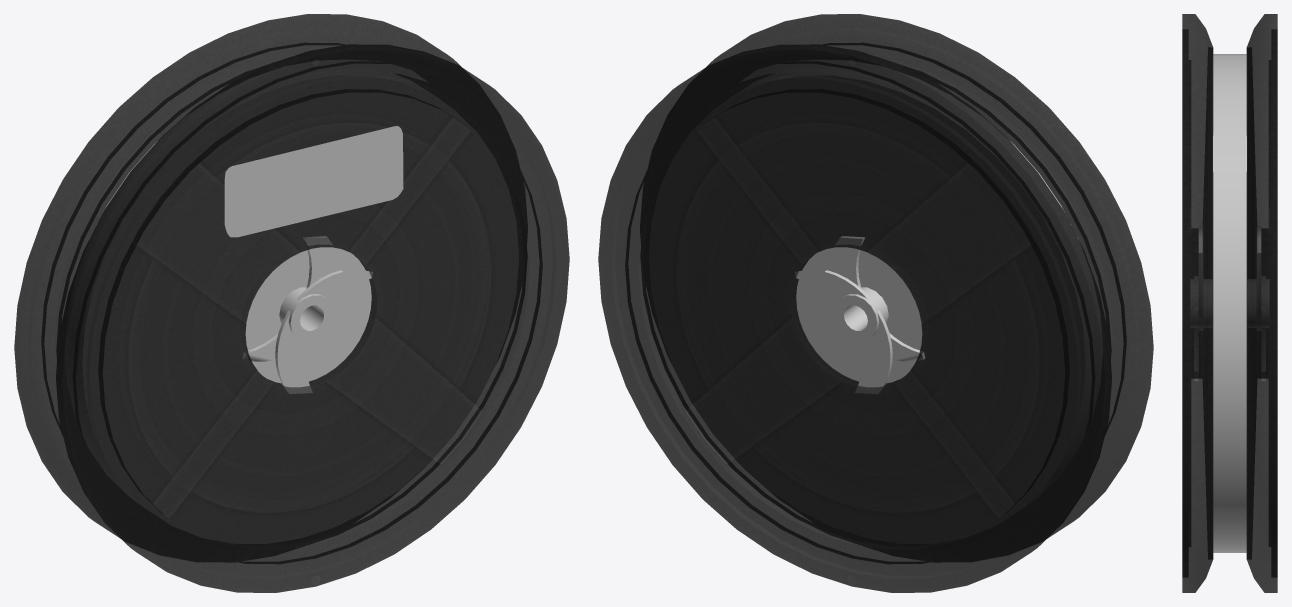
Rendered from Showtape Reel.fbx.
The picture shows the model from 3 angles, left to right: view 1: azimuth 30°, elevation 25°; view 2: azimuth 150°, elevation 25°; view 3: azimuth 270°, elevation 25°; orthographic projection.
Visible parts, largest first — view 1: LOD0; view 2: LOD0; view 3: LOD0.
Boxes of the visible parts, <box> form: LOD0: <box>14,14,569,592</box>; LOD0: <box>598,14,1153,592</box>; LOD0: <box>1182,14,1277,592</box>.
Size of what is drawn, in the model's own units: 60.96 by 60.96 by 10.03.
